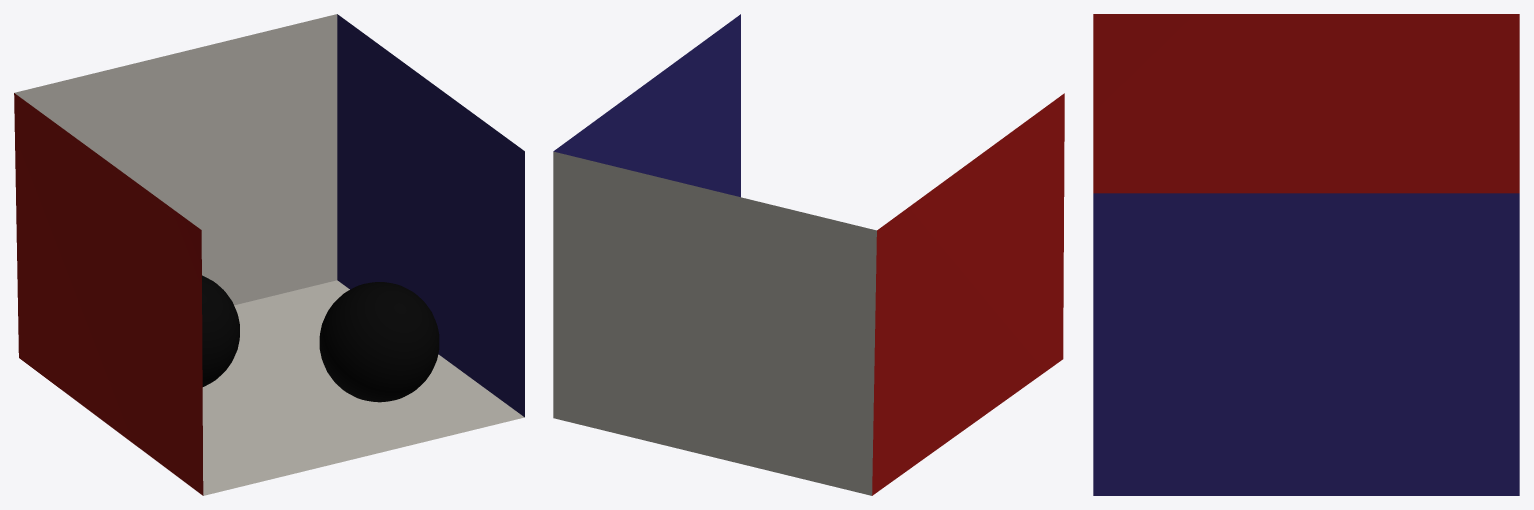
Rendered from CornellBox-Sphere.obj.
3 views of the same model, side by side, from view 1: azimuth 30°, elevation 25°; view 2: azimuth 150°, elevation 25°; view 3: azimuth 270°, elevation 25° (orthographic). The views are drawn at different scales.
Parts seen in each view (by area): view 1: CornellBox-Sphere; view 2: CornellBox-Sphere; view 3: CornellBox-Sphere.
Part boxes in pixels (x1,y1,x2,y2): CornellBox-Sphere: (14,14,524,495); CornellBox-Sphere: (553,14,1064,495); CornellBox-Sphere: (1093,14,1519,495).
Size of the model in its own units: 2.02 by 1.59 by 2.03.
